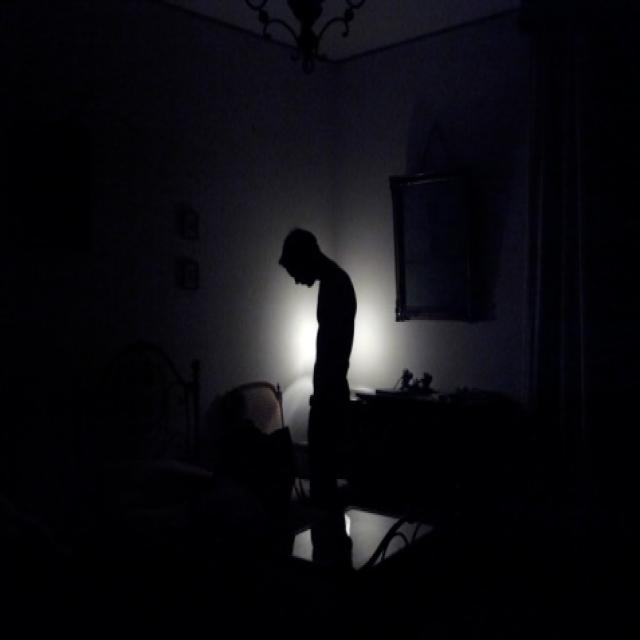People: (282, 221, 383, 605)
Table: (277, 513, 458, 597)
chair: (72, 321, 227, 510), (220, 381, 316, 465)
